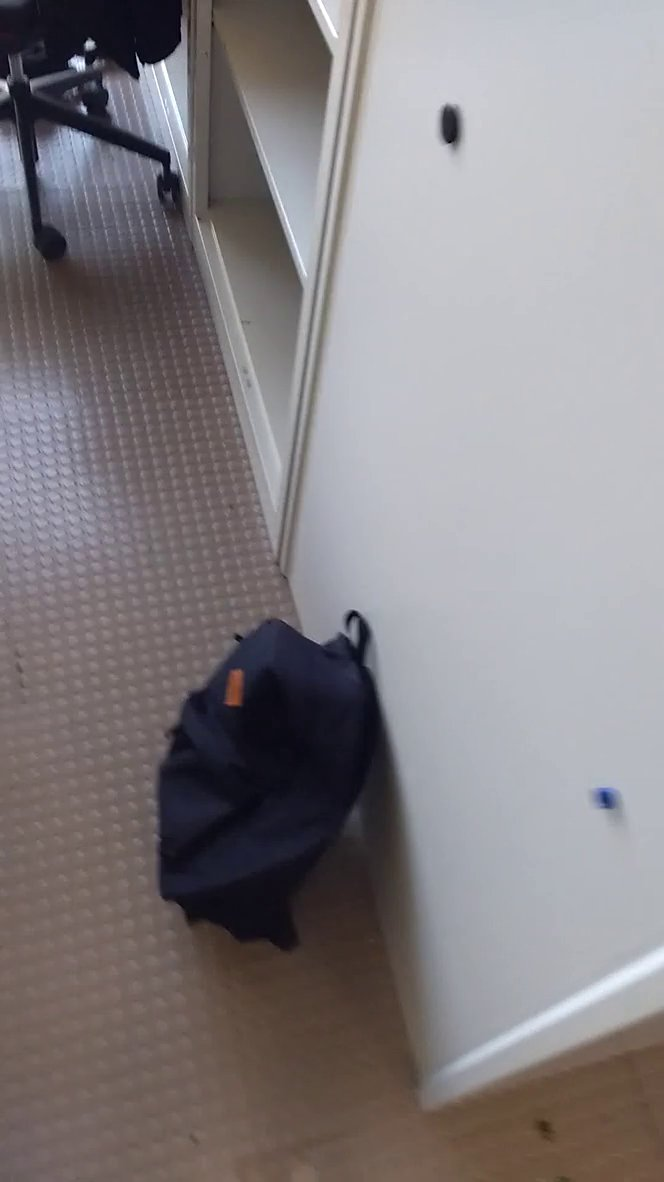bag: (147, 590, 423, 983)
